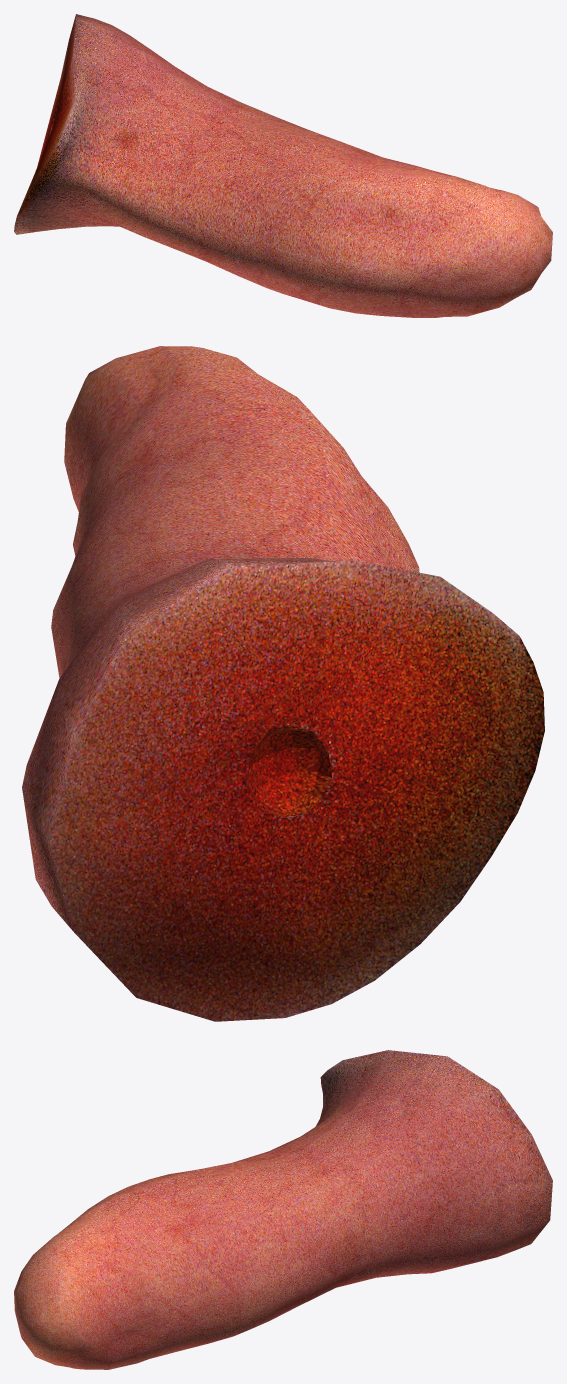
3 views of the same model, one above another, from view 1: azimuth 30°, elevation 25°; view 2: azimuth 150°, elevation 25°; view 3: azimuth 270°, elevation 25° (orthographic). The views are drawn at different scales.
Visible parts, largest first — view 1: hand_mesh.001; view 2: hand_mesh.001; view 3: hand_mesh.001.
Boxes of the visible parts, x1,y1,x2,y2 form: hand_mesh.001: (14,14,552,317); hand_mesh.001: (22,346,544,1021); hand_mesh.001: (14,1050,552,1369).
Bounding box in the file's own units: 0.2167 × 0.1225 × 0.2704.
1 material, 1 textured.
